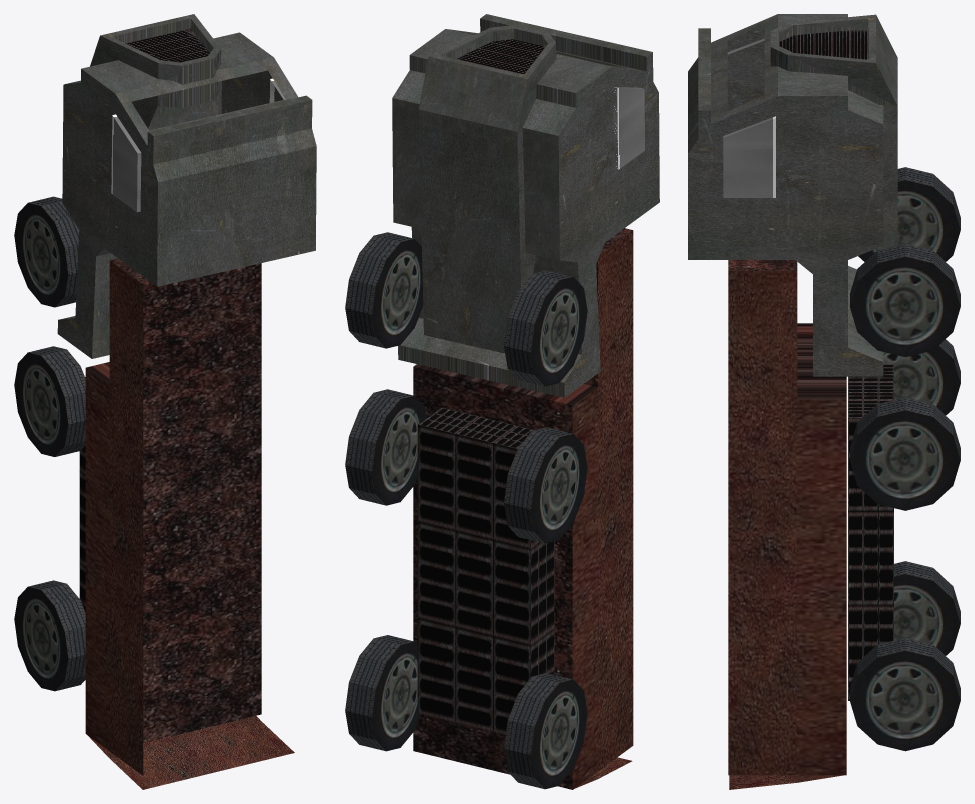
File: Truck6WheelDump_wtf.obj
3 views of the same model, side by side, from view 1: azimuth 30°, elevation 25°; view 2: azimuth 150°, elevation 25°; view 3: azimuth 270°, elevation 25° (orthographic). The views are drawn at different scales.
Visible parts, largest first — view 1: group24, group26, group27, group28, group21, group6, group12, group5, group11, group25, group20, group19 (+1 smaller); view 2: group24, group23, group27, group26, group21, group12, group6, group15, group9, group3, group2, group5 (+6 smaller); view 3: group27, group24, group23, group10, group16, group4, group7, group25, group22, group13, group26, group19 (+6 smaller).
Boxes of the visible parts, box(x1,y1,x2,y2) form: group24: box(57, 14, 316, 358); group26: box(86, 258, 261, 742); group27: box(85, 260, 143, 775); group28: box(88, 716, 294, 789); group21: box(14, 203, 68, 307); group6: box(14, 587, 68, 691); group12: box(14, 352, 68, 456); group5: box(28, 580, 85, 691); group11: box(28, 346, 85, 456); group25: box(111, 78, 285, 212); group20: box(28, 196, 79, 307); group19: box(125, 28, 209, 62); group24: box(392, 14, 659, 397); group23: box(417, 407, 554, 734); group27: box(572, 230, 633, 789); group26: box(413, 228, 632, 789); group21: box(531, 276, 587, 386); group12: box(531, 434, 587, 543); group6: box(531, 679, 587, 789); group15: box(372, 239, 423, 348); group9: box(372, 396, 426, 505); group3: box(372, 641, 420, 751); group2: box(345, 635, 413, 751); group5: box(504, 673, 572, 789); group27: box(728, 271, 846, 775); group24: box(688, 14, 897, 376); group23: box(848, 364, 893, 700); group10: box(850, 410, 960, 510); group16: box(850, 256, 960, 357); group4: box(850, 650, 960, 751); group7: box(894, 574, 960, 655); group25: box(723, 38, 775, 197); group22: box(858, 180, 960, 261); group13: box(883, 345, 960, 415); group26: box(728, 260, 846, 399); group19: box(779, 28, 868, 59).
Bounding box in the file's own units: 176 × 660 × 229.
